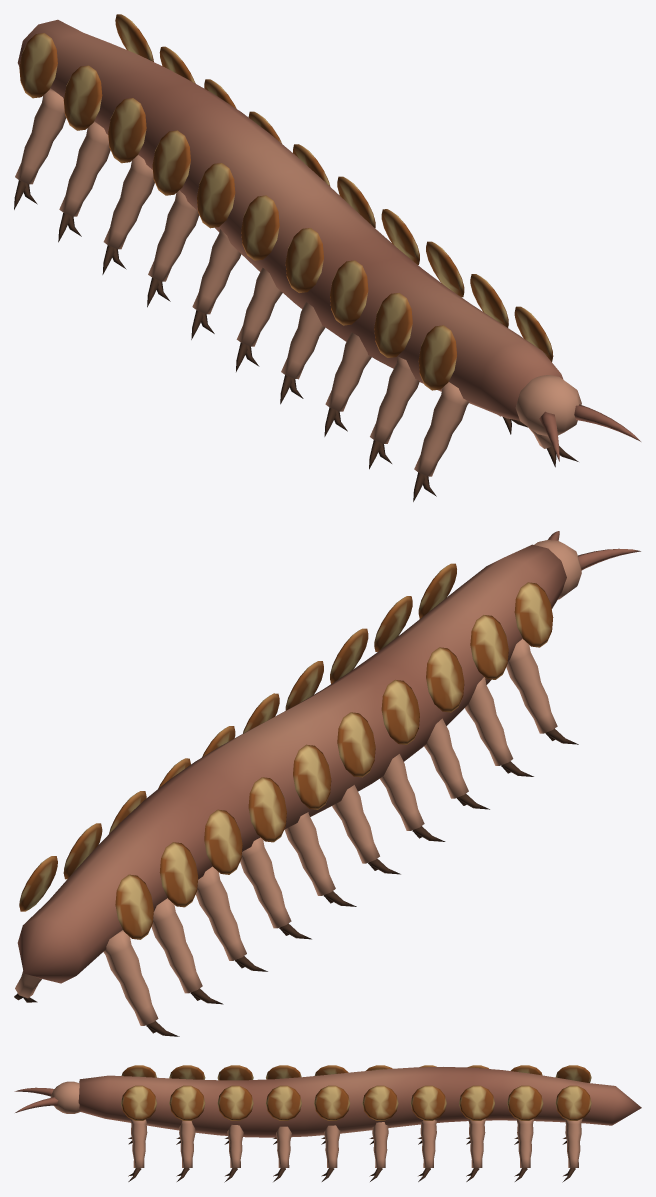
Rendered from Microdictyon.fbx.
3 renders of one model, top to bottom at view 1: azimuth 30°, elevation 25°; view 2: azimuth 150°, elevation 25°; view 3: azimuth 270°, elevation 25°, orthographic. The views are drawn at different scales.
Parts seen in each view (by area): view 1: Microdictyon; view 2: Microdictyon; view 3: Microdictyon.
Boxes of the visible parts, x1,y1,x2,y2 form: Microdictyon: (14, 14, 640, 501); Microdictyon: (14, 531, 640, 1036); Microdictyon: (14, 1065, 641, 1182).
Bounding box in the file's own units: 0.2593 × 0.2471 × 1.56.
